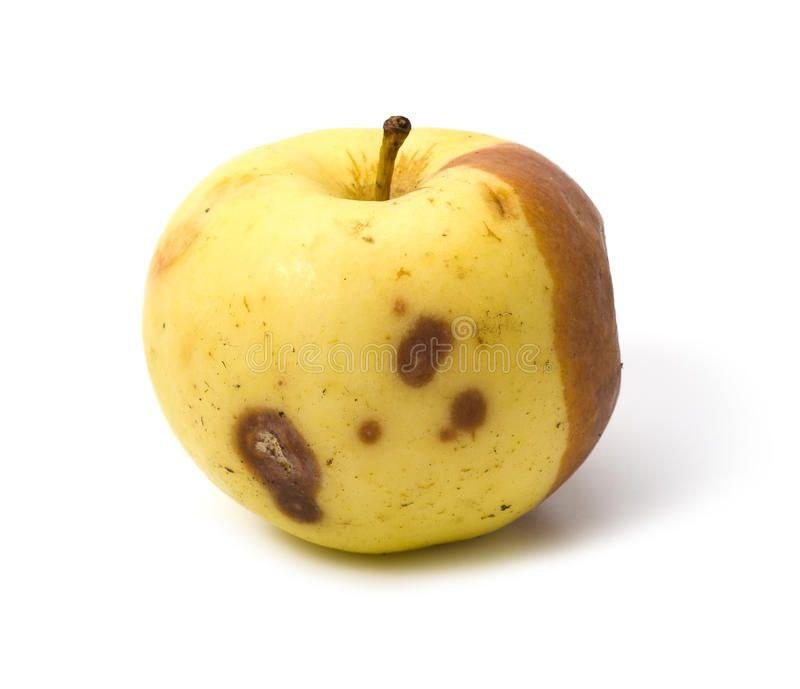Apple: (143, 124, 622, 556)
